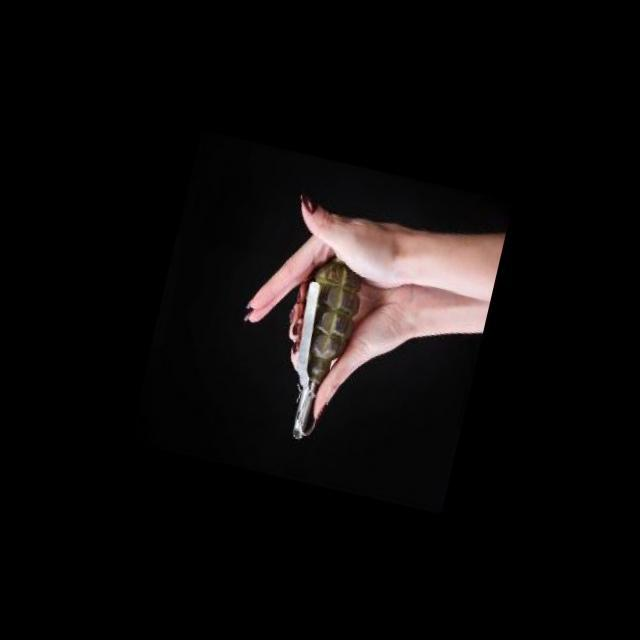grenade: (254, 248, 373, 448)
